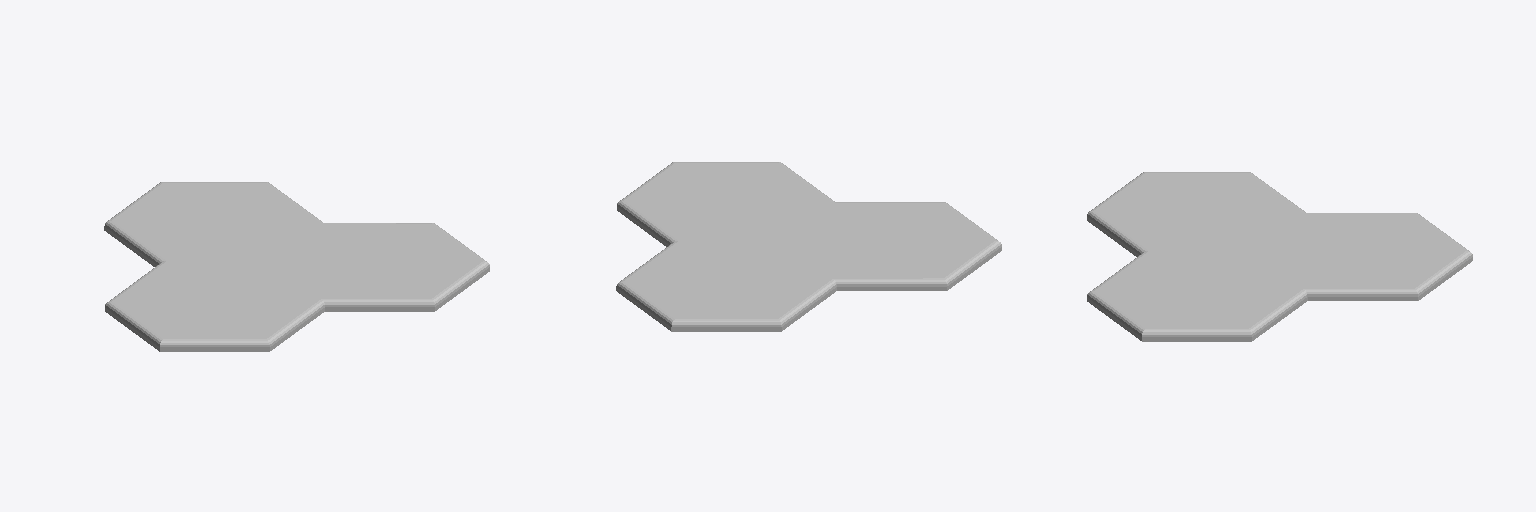
File: Tile.obj
The picture shows the model from 3 angles: view 1: azimuth 30°, elevation 25°; view 2: azimuth 150°, elevation 25°; view 3: azimuth 270°, elevation 25°; orthographic projection.
Visible parts, largest first — view 1: Shape003; view 2: Shape003; view 3: Shape003.
Boxes of the visible parts, x1=… form: Shape003: x1=104, y1=182, x2=489, y2=351; Shape003: x1=616, y1=162, x2=1001, y2=331; Shape003: x1=1087, y1=172, x2=1472, y2=341.
Bounding box in the file's own units: 136 × 3.94 × 138.